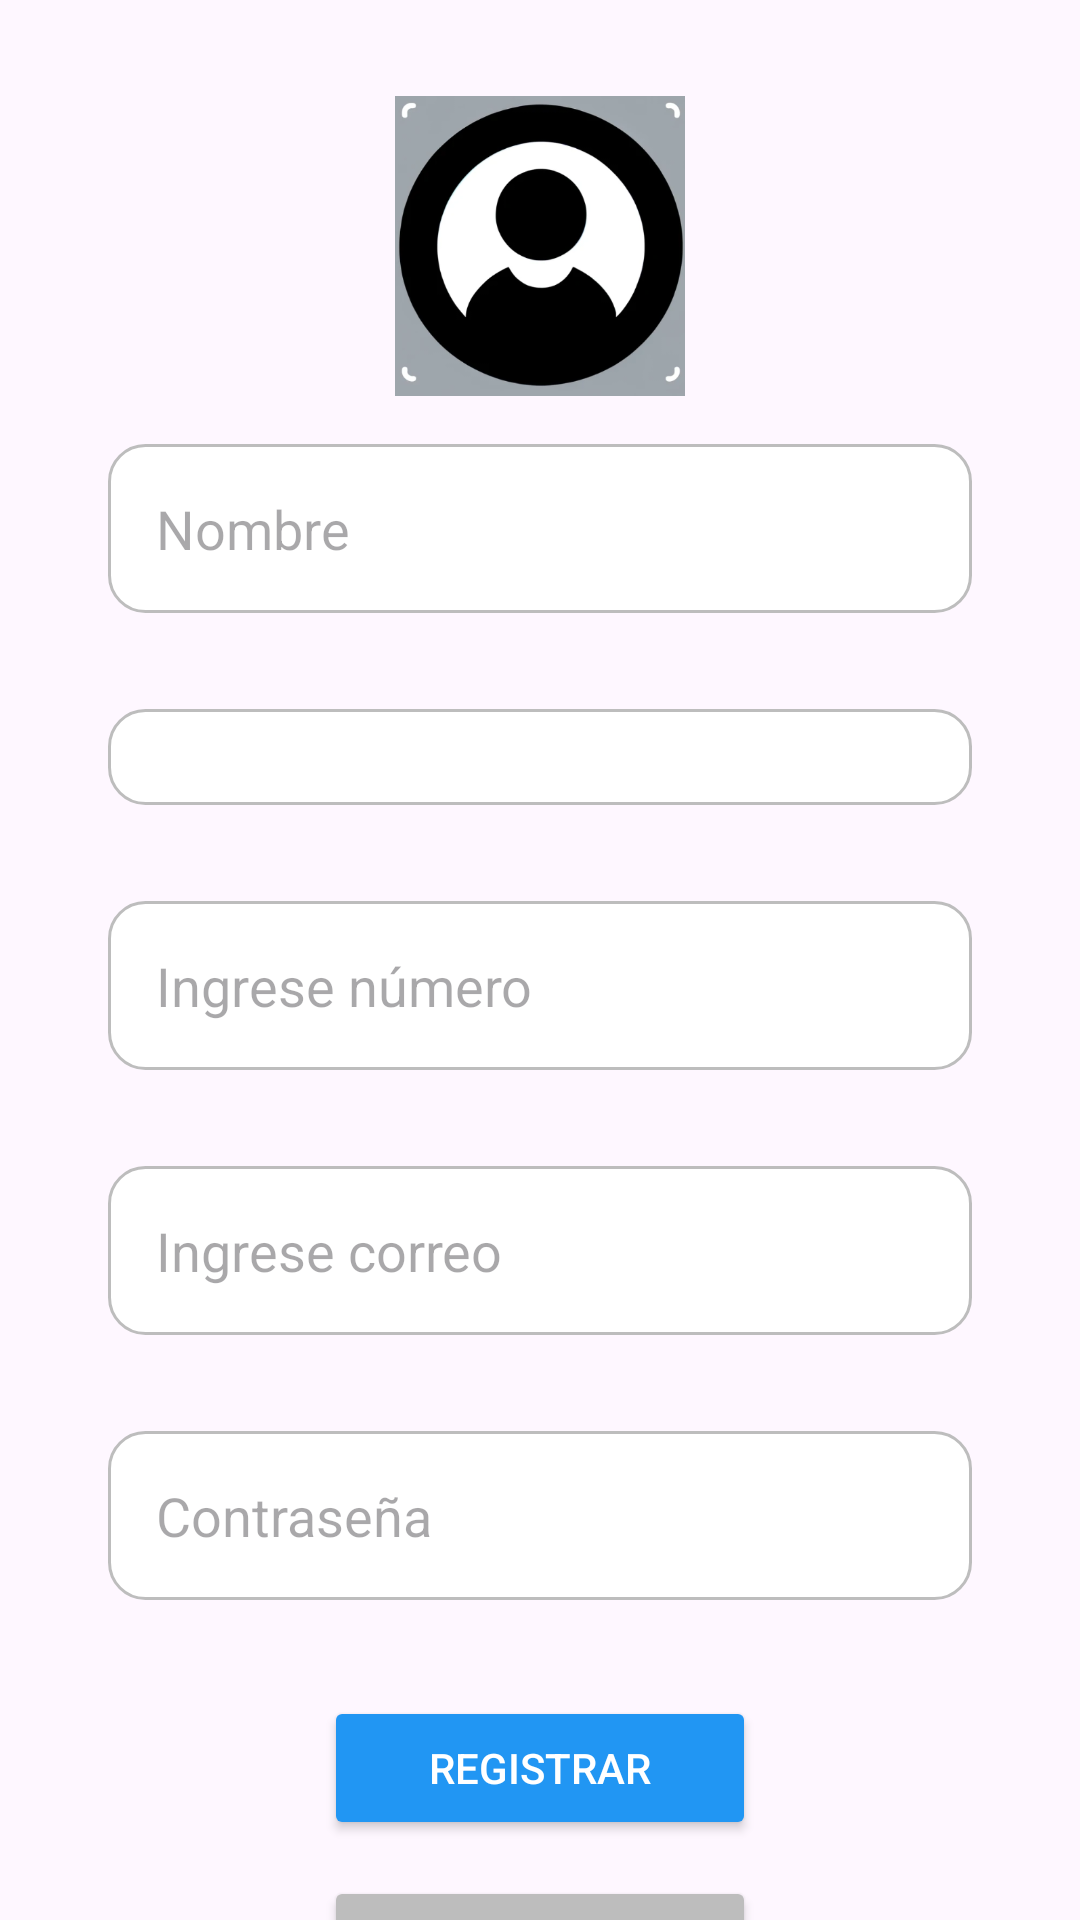

Named icons in this screenshot (1080px x 1920px) and their centers, (x,y):
user: (540,246)
